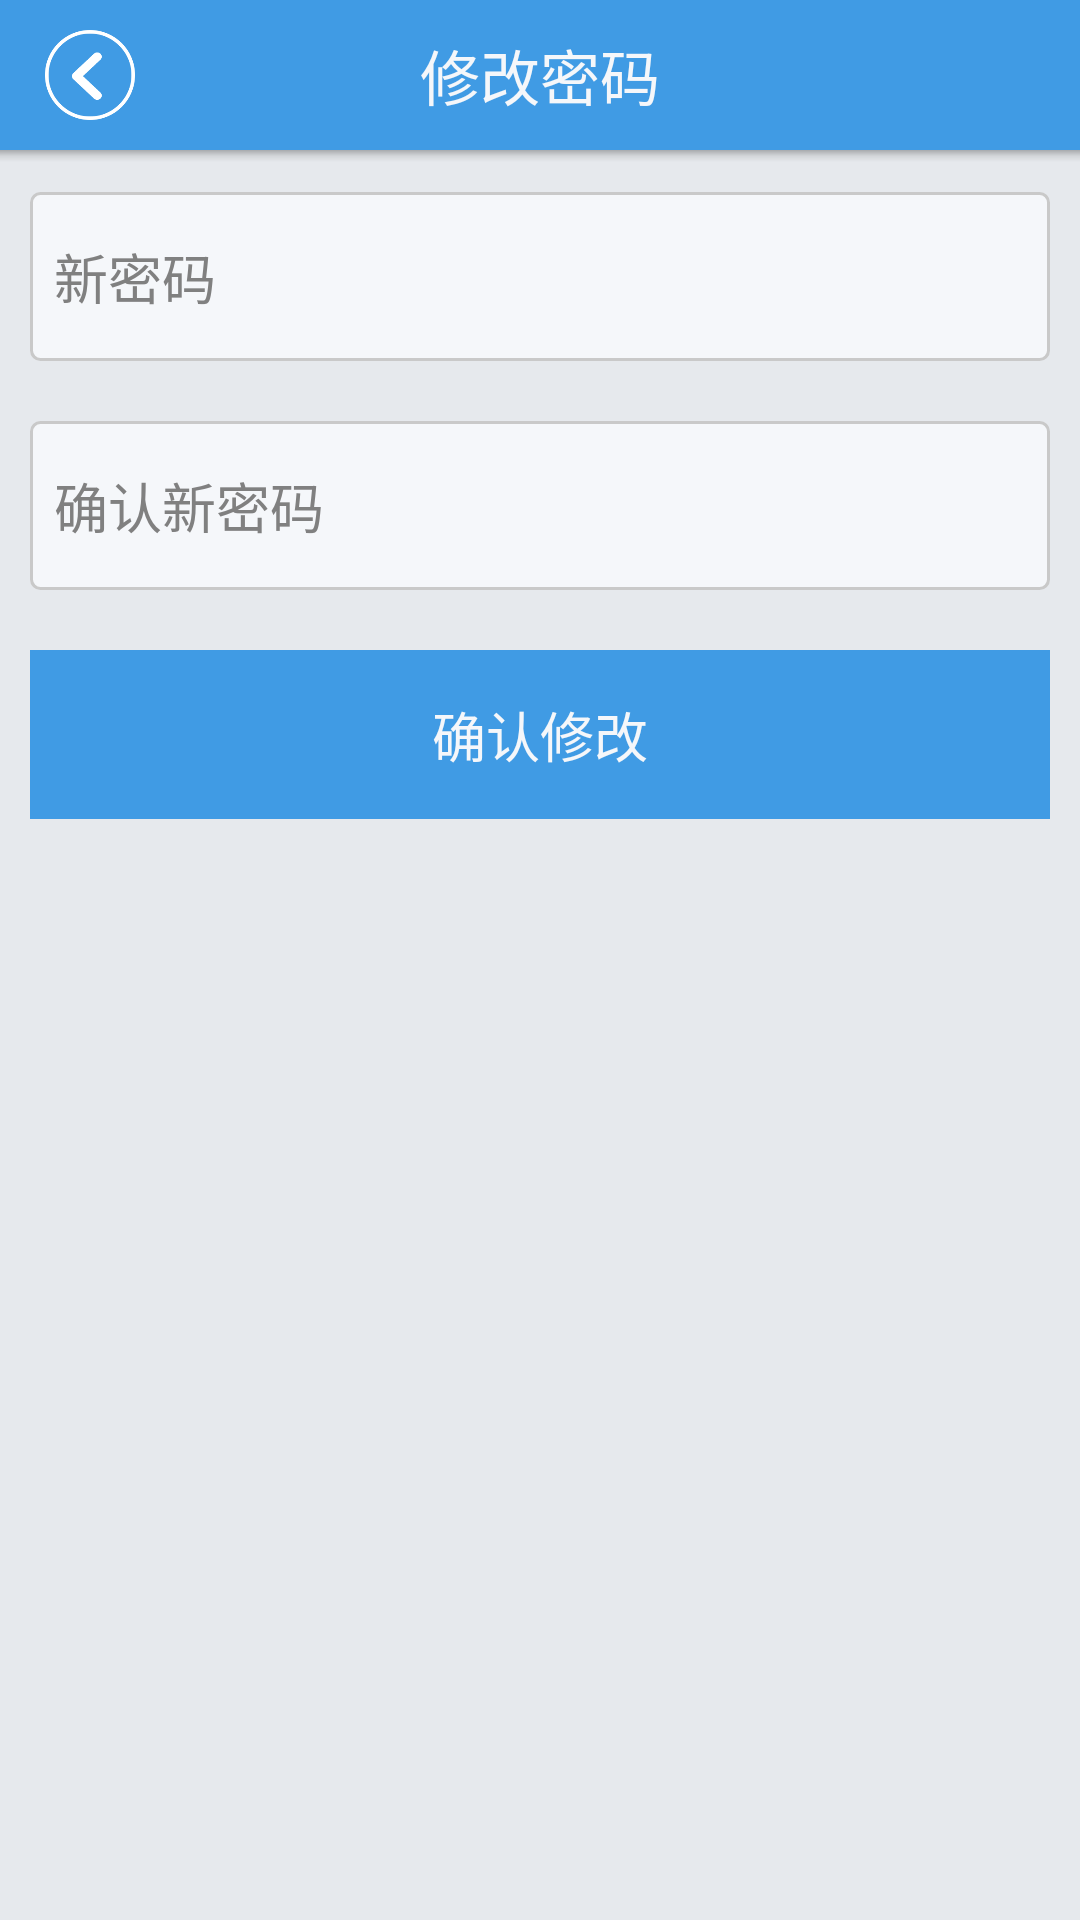

Icons on this 1080w x 1920h Android screen, each with its box as (x1, y1, x2, y2):
gobackbtn: (45, 30, 135, 120)
